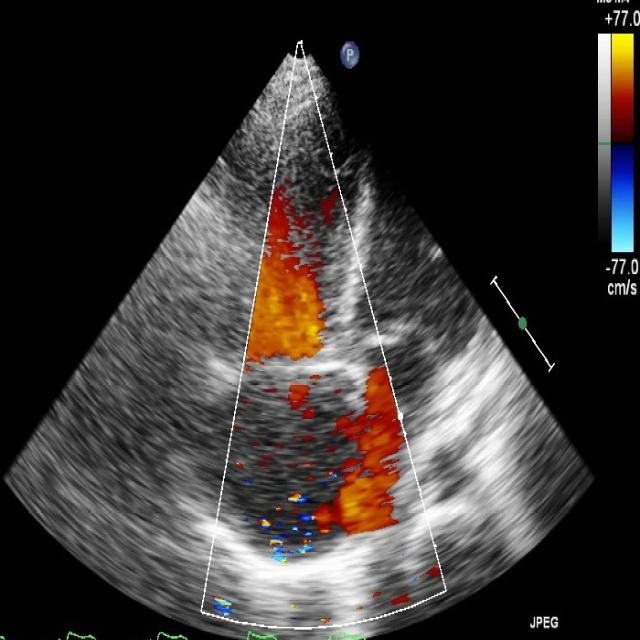ASDType2: (322, 376, 415, 534)
